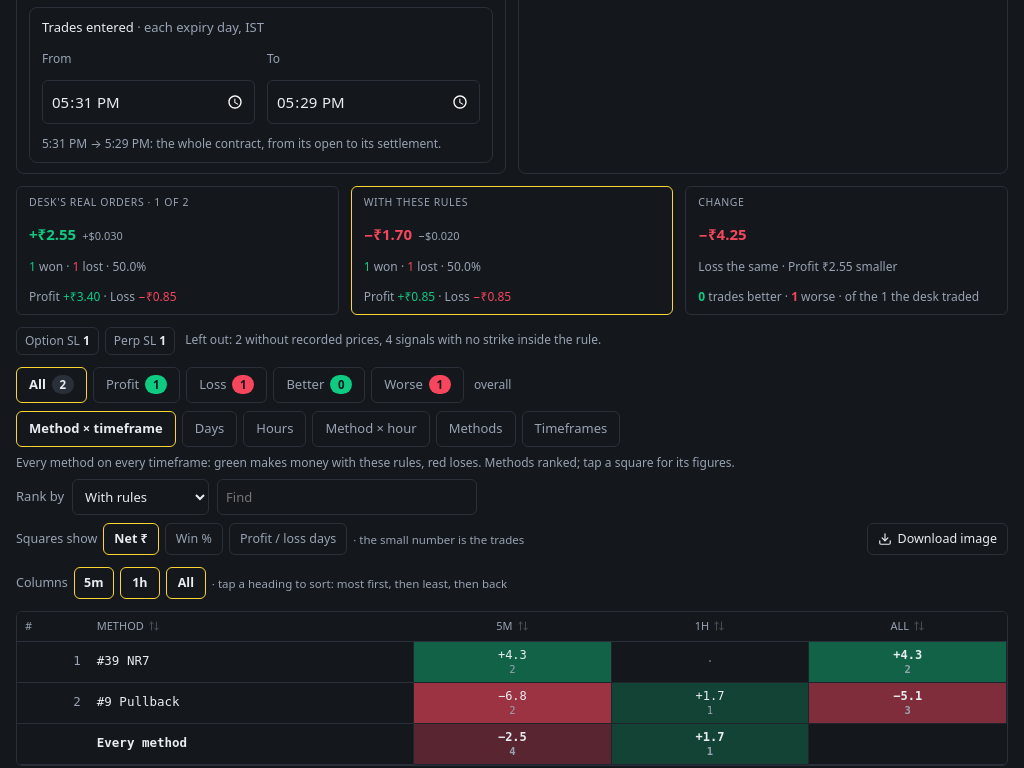
Test: Option history › [critical] the counts as badges, overall and of the day tapped; a badge ranks the lists by it
The width and height of the screenshot is (1024, 768).
(page scrolled)
Expected: the text "With these rules" is shown, [364, 195, 468, 209]
Expected: the button "All 2" is shown, [16, 367, 87, 403]
Step 1. Click the button "Worse 1" → click(418, 385), box [371, 367, 464, 403]
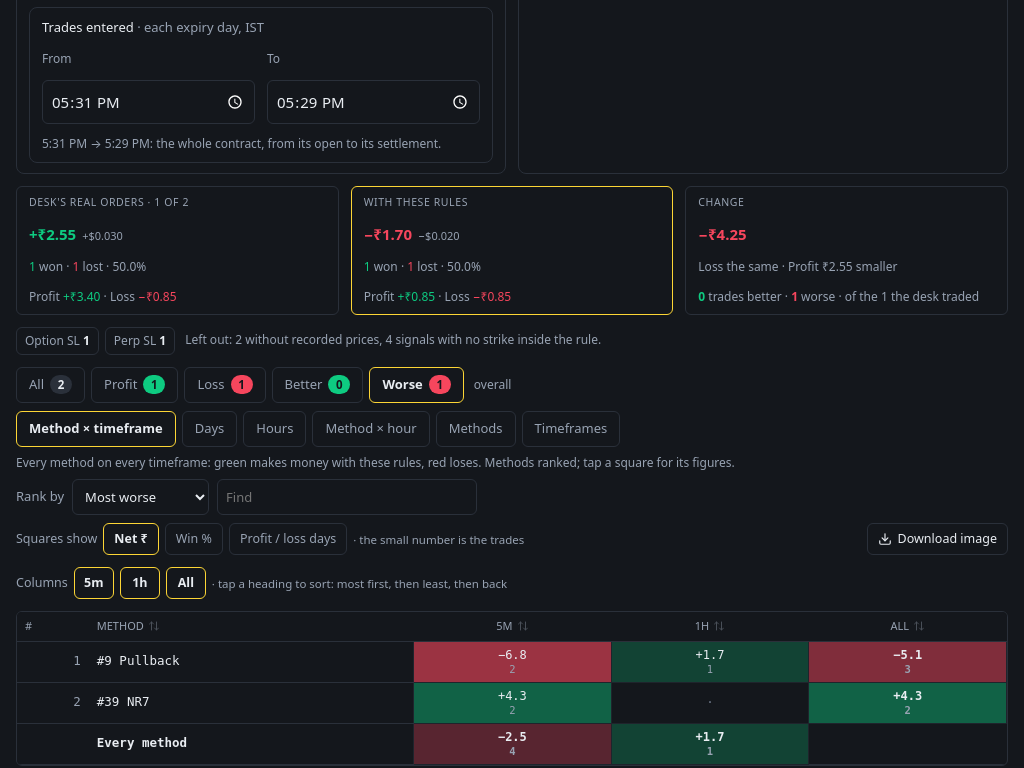
Now the dropdown labelled "Rank by" shows "Most worse", box [72, 479, 209, 515]
The day tapped: its own counts.
Step 2. Click the tab "Days" → click(209, 429), box [182, 411, 237, 447]
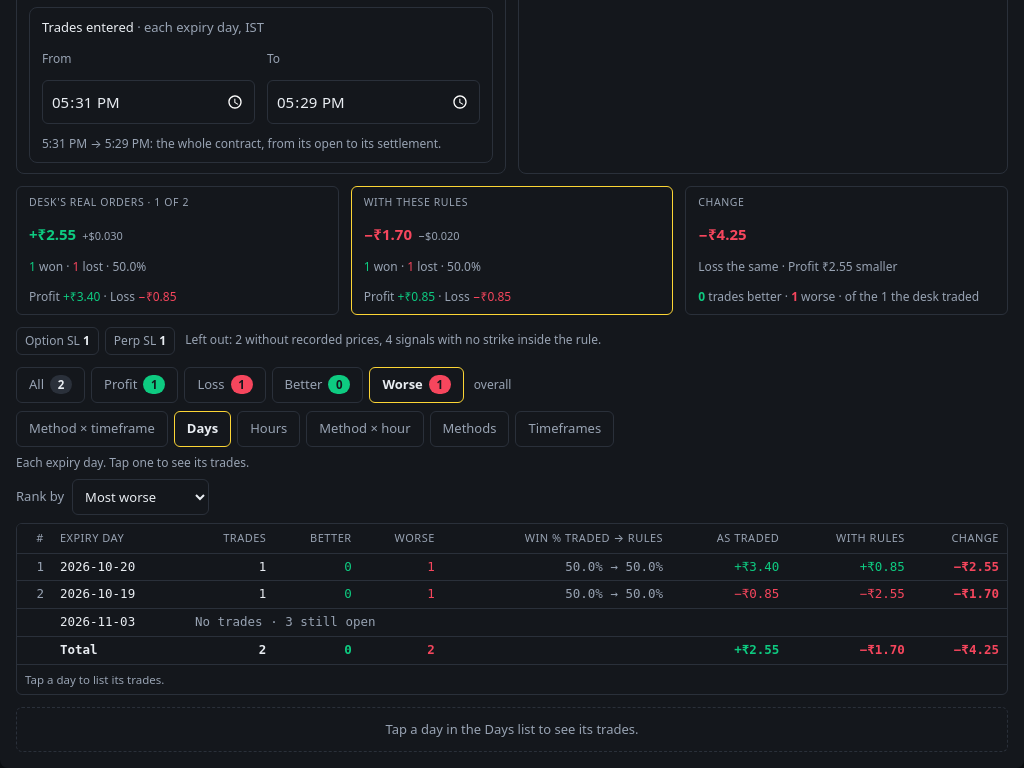
Step 3. Click the row "1 2026-10-20 1 0 1 50.0% → 50.0% +₹3.40 +₹0.85 −₹2.55" → click(512, 567), box [17, 553, 1007, 581]
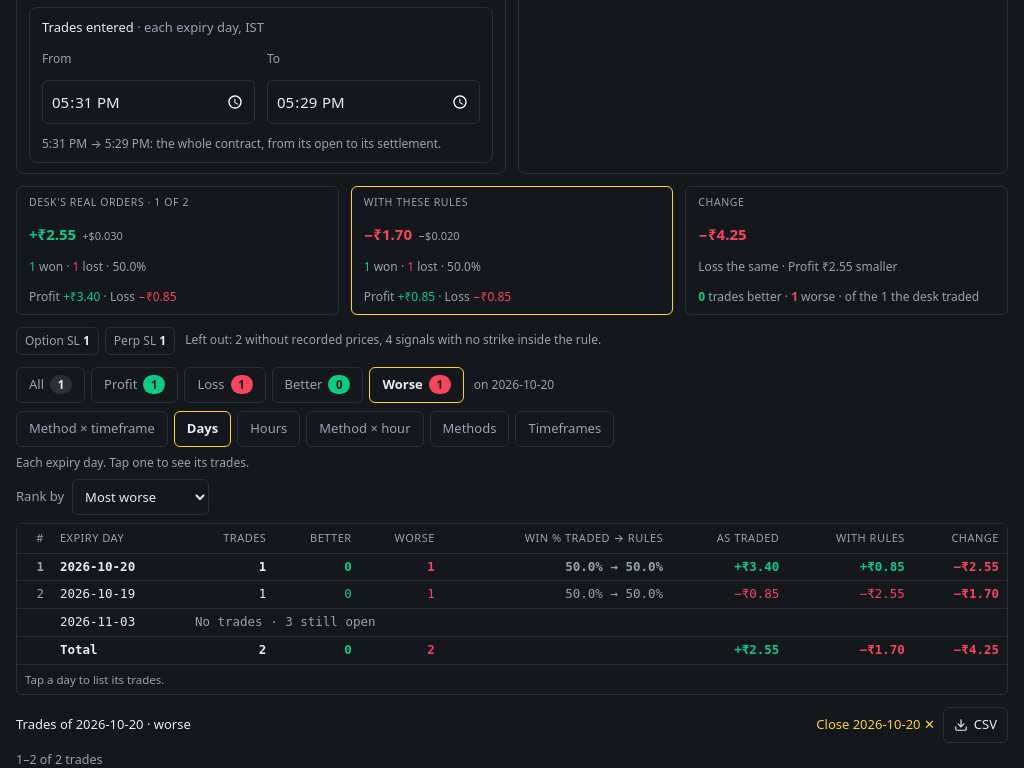
Now the element named "Show trades" shows "on 2026-10-20", box [474, 376, 554, 393]
Now the button "All 1" is shown, box [16, 367, 85, 403]
